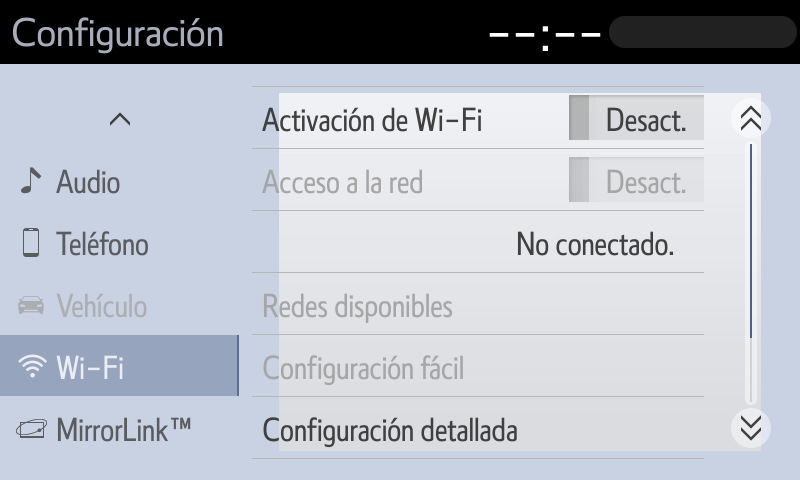touchPart: (254, 82, 708, 152), (251, 392, 721, 457), (15, 409, 196, 450), (16, 222, 157, 271), (17, 163, 143, 204), (96, 105, 147, 139), (733, 96, 767, 135), (735, 407, 769, 442)
untouchPart: (255, 269, 707, 342), (253, 145, 702, 216), (257, 333, 706, 402), (1, 331, 244, 399), (468, 8, 800, 56), (9, 12, 238, 57), (11, 292, 160, 326)
